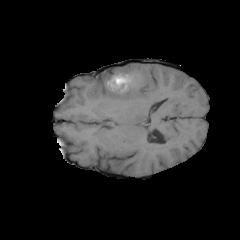glioma: (96, 66, 147, 118)
